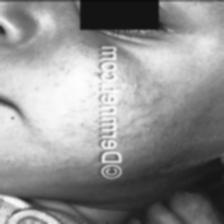Non-Cancerous Skin Condition: (119, 78, 157, 134), (77, 97, 87, 102), (77, 118, 83, 124)
